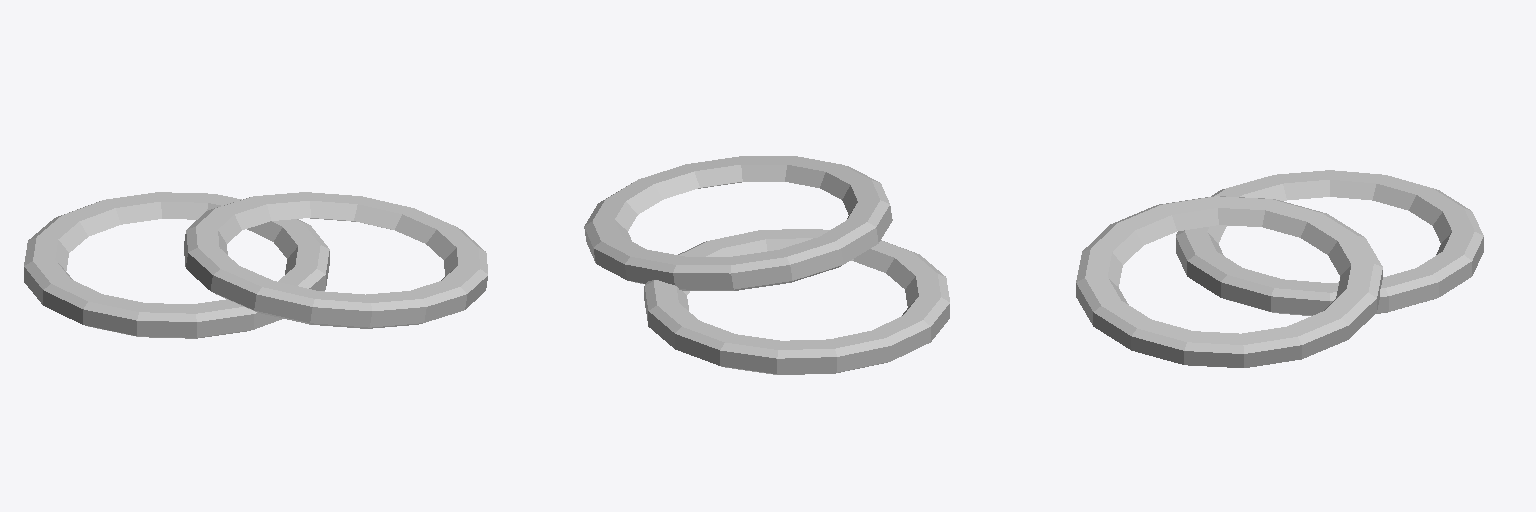
The model's file is food_ingredient_onion_rings.obj.
3 renders of one model, left to right at view 1: azimuth 30°, elevation 25°; view 2: azimuth 150°, elevation 25°; view 3: azimuth 270°, elevation 25°, orthographic.
Visible parts, largest first — view 1: food_ingredient_onion_rings_Sphere.063; view 2: food_ingredient_onion_rings_Sphere.063; view 3: food_ingredient_onion_rings_Sphere.063.
Boxes of the visible parts, x1,y1,x2,y2 form: food_ingredient_onion_rings_Sphere.063: [24, 192, 487, 338]; food_ingredient_onion_rings_Sphere.063: [584, 156, 949, 374]; food_ingredient_onion_rings_Sphere.063: [1076, 170, 1483, 367].
Size of the model in its own units: 0.7758 by 0.1064 by 0.7296.